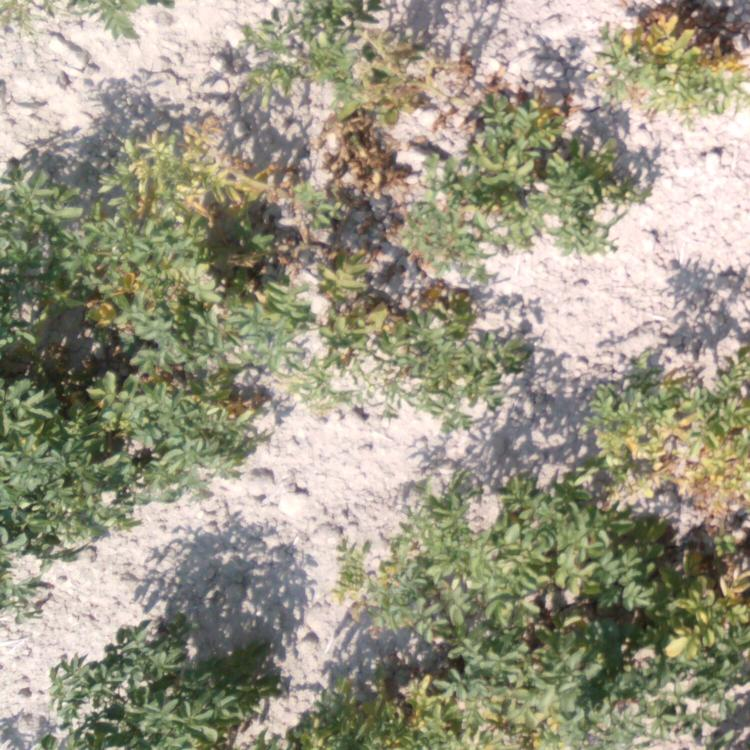healthy: (447, 495, 614, 740), (37, 627, 278, 744), (5, 364, 139, 547), (1, 181, 73, 353)
stressed: (256, 7, 430, 238), (272, 252, 505, 416), (82, 114, 235, 337), (628, 515, 746, 728), (455, 87, 606, 246), (313, 556, 436, 746), (618, 357, 744, 506), (603, 1, 743, 120), (153, 350, 257, 478)
